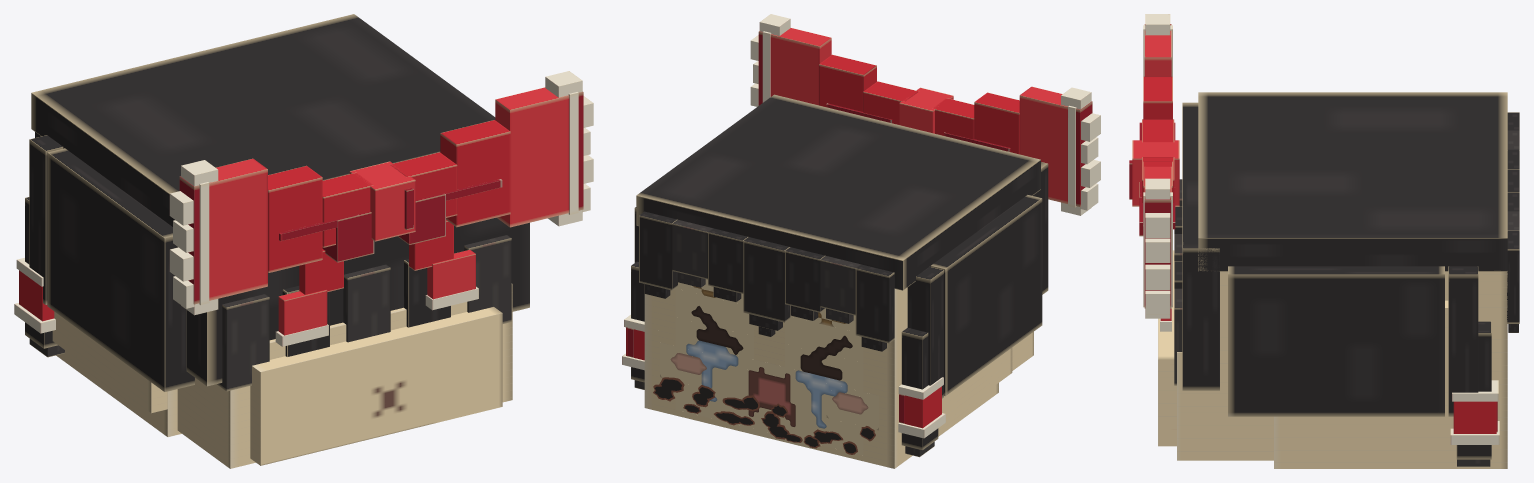
The model's file is scorch_reimu_3.obj.
3 renders of one model, left to right at view 1: azimuth 30°, elevation 25°; view 2: azimuth 150°, elevation 25°; view 3: azimuth 270°, elevation 25°, orthographic. The views are drawn at different scales.
Visible parts, largest first — view 1: scorch_reimu_3; view 2: scorch_reimu_3; view 3: scorch_reimu_3.
Boxes of the visible parts, box(x1,y1,x2,y2) form: scorch_reimu_3: box(14, 14, 593, 468); scorch_reimu_3: box(622, 14, 1100, 468); scorch_reimu_3: box(1129, 14, 1519, 468).
Size of the model in its own units: 16.28 by 12.24 by 14.49.
Materials: 1 (1 with a texture image).
